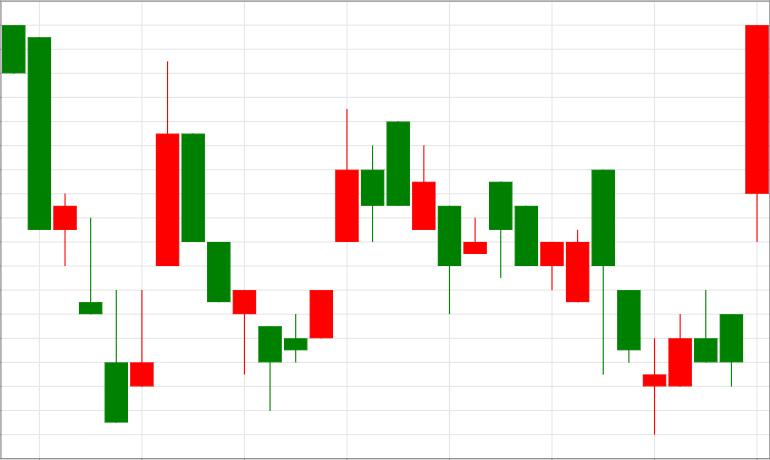hammer_rise: (156, 61, 282, 412)
